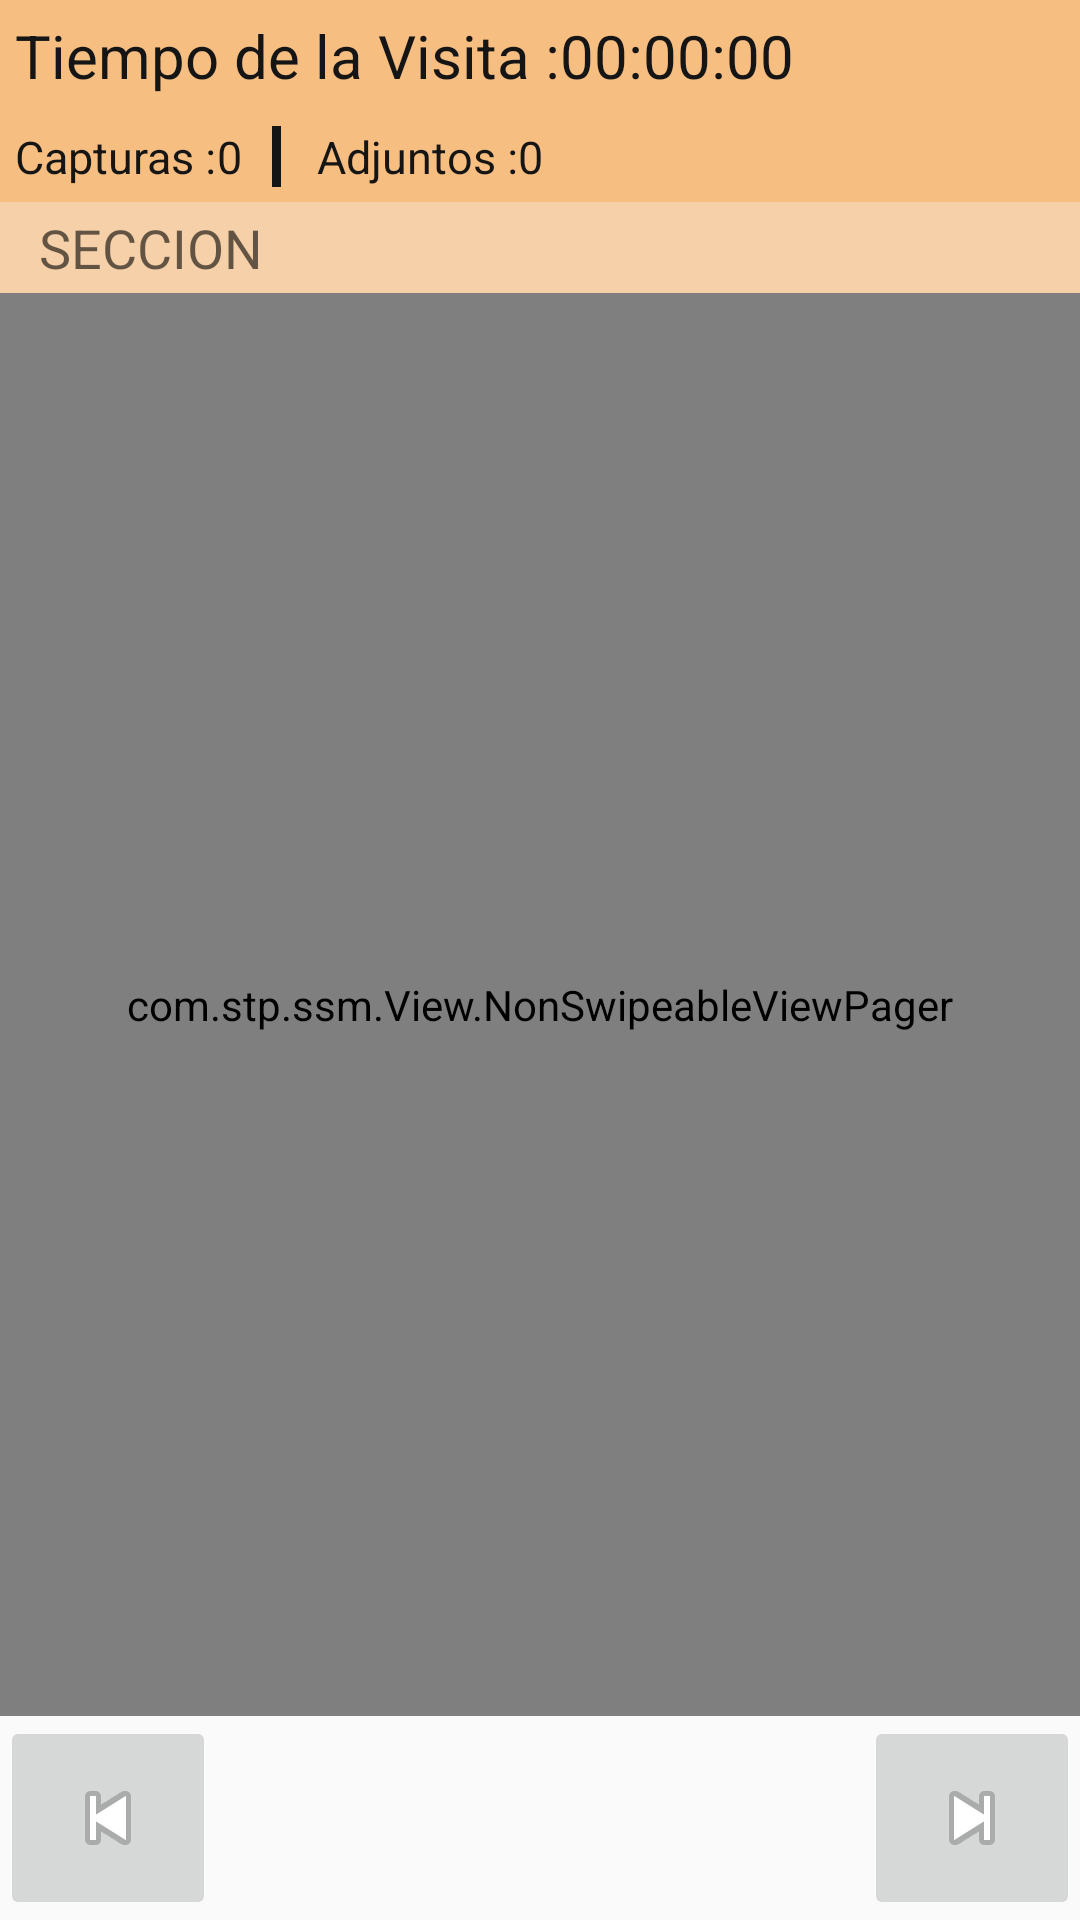

Icons on this 1080x1920 Android screen, each with its box as [x1,y1,x2,y2]:
next: [876,1734,1068,1902]
previous: [12,1734,204,1902]
